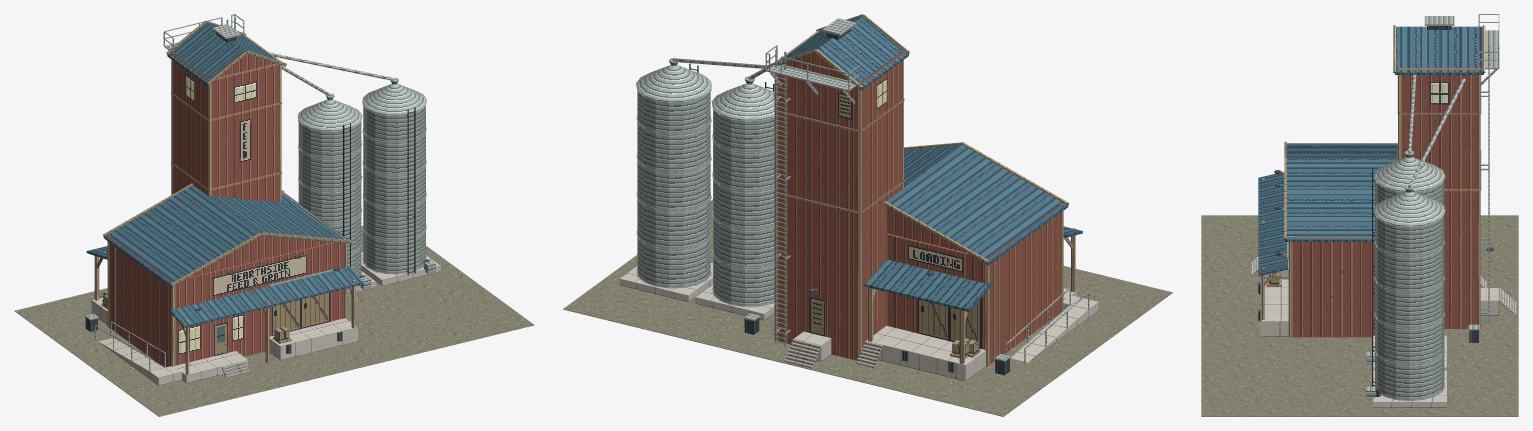
Rendered from feed-mill.glb.
3 views of the same model, side by side, from view 1: azimuth 30°, elevation 25°; view 2: azimuth 150°, elevation 25°; view 3: azimuth 270°, elevation 25° (orthographic). The views are drawn at different scales.
Visible parts, largest first — view 1: lot__ground_gravel, structure__roof_metal, structure__wall_timber_red, elevator__wall_timber_red, grain_bin_02__detail_galvanized, grain_bin_01__detail_galvanized, structure__detail_timber, structure__ground_paving, elevator__roof_metal, sign_name, panel_door_loading_front__detail_equipment, structure__detail_galvanized (+7 smaller); view 2: elevator__wall_timber_red, lot__ground_gravel, grain_bin_02__detail_galvanized, structure__roof_metal, grain_bin_01__detail_galvanized, structure__wall_timber_red, structure__detail_timber, structure__ground_paving, elevator__roof_metal, elevator_ladder__detail_galvanized, panel_door_loading_rear__detail_equipment, elevator__detail_galvanized (+6 smaller); view 3: lot__ground_gravel, grain_bin_02__detail_galvanized, structure__roof_metal, elevator__wall_timber_red, structure__wall_timber_red, elevator__roof_metal, structure__detail_timber, grain_bin_01__detail_galvanized, structure__ground_paving, elevator__detail_galvanized, structure__detail_galvanized, grain_bin_02__ground_paving (+3 smaller).
Boxes of the visible parts, bbox=[...] form: lot__ground_gravel: bbox=[14, 226, 534, 416]; structure__roof_metal: bbox=[86, 185, 363, 327]; structure__wall_timber_red: bbox=[109, 193, 345, 367]; elevator__wall_timber_red: bbox=[173, 35, 279, 202]; grain_bin_02__detail_galvanized: bbox=[362, 77, 435, 274]; grain_bin_01__detail_galvanized: bbox=[297, 93, 371, 289]; structure__detail_timber: bbox=[94, 20, 355, 374]; structure__ground_paving: bbox=[91, 297, 358, 385]; elevator__roof_metal: bbox=[167, 22, 285, 85]; sign_name: bbox=[213, 255, 306, 295]; panel_door_loading_front__detail_equipment: bbox=[271, 292, 330, 335]; structure__detail_galvanized: bbox=[94, 52, 395, 371]; elevator__wall_timber_red: bbox=[777, 31, 902, 360]; lot__ground_gravel: bbox=[563, 199, 1172, 416]; grain_bin_02__detail_galvanized: bbox=[636, 58, 711, 288]; structure__roof_metal: bbox=[864, 144, 1082, 311]; grain_bin_01__detail_galvanized: bbox=[711, 76, 774, 306]; structure__wall_timber_red: bbox=[886, 205, 1061, 364]; structure__detail_timber: bbox=[768, 14, 1075, 366]; structure__ground_paving: bbox=[855, 288, 1099, 381]; elevator__roof_metal: bbox=[777, 16, 908, 90]; elevator_ladder__detail_galvanized: bbox=[775, 49, 790, 345]; panel_door_loading_rear__detail_equipment: bbox=[917, 298, 981, 348]; elevator__detail_galvanized: bbox=[765, 18, 859, 103]; lot__ground_gravel: bbox=[1201, 215, 1518, 416]; grain_bin_02__detail_galvanized: bbox=[1366, 185, 1445, 400]; structure__roof_metal: bbox=[1258, 143, 1397, 276]; elevator__wall_timber_red: bbox=[1399, 68, 1477, 328]; structure__wall_timber_red: bbox=[1291, 143, 1397, 337]; elevator__roof_metal: bbox=[1394, 26, 1483, 74]; structure__detail_timber: bbox=[1261, 25, 1485, 337]; grain_bin_01__detail_galvanized: bbox=[1366, 150, 1445, 365]; structure__ground_paving: bbox=[1250, 257, 1486, 336]; elevator__detail_galvanized: bbox=[1424, 14, 1499, 85]; structure__detail_galvanized: bbox=[1278, 75, 1490, 259]; grain_bin_02__ground_paving: bbox=[1372, 370, 1446, 407].
Size of what is drawn, in the model's own units: 29.8 by 20 by 19.87.
Materials: 12 (12 with a texture image).
